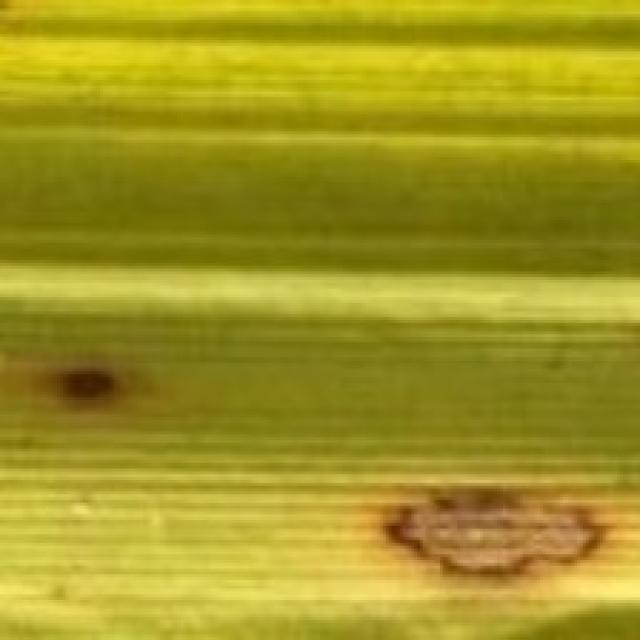Rice___Brown_Spot: (2, 0, 639, 640)
